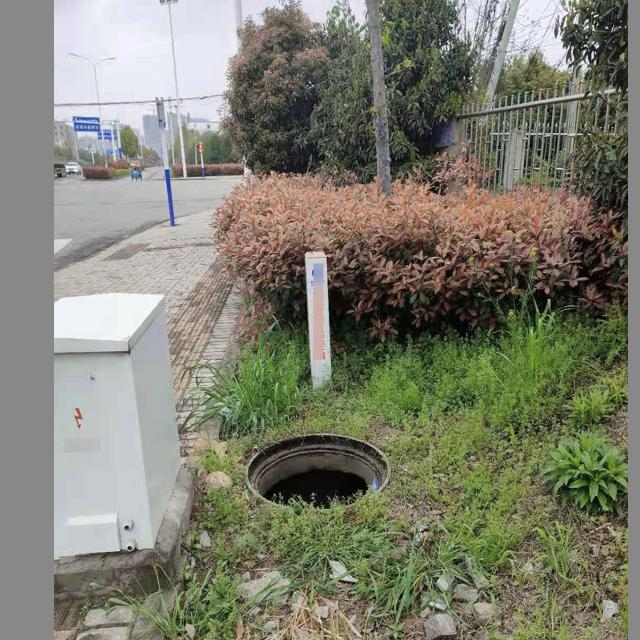lose: (238, 422, 398, 507)
